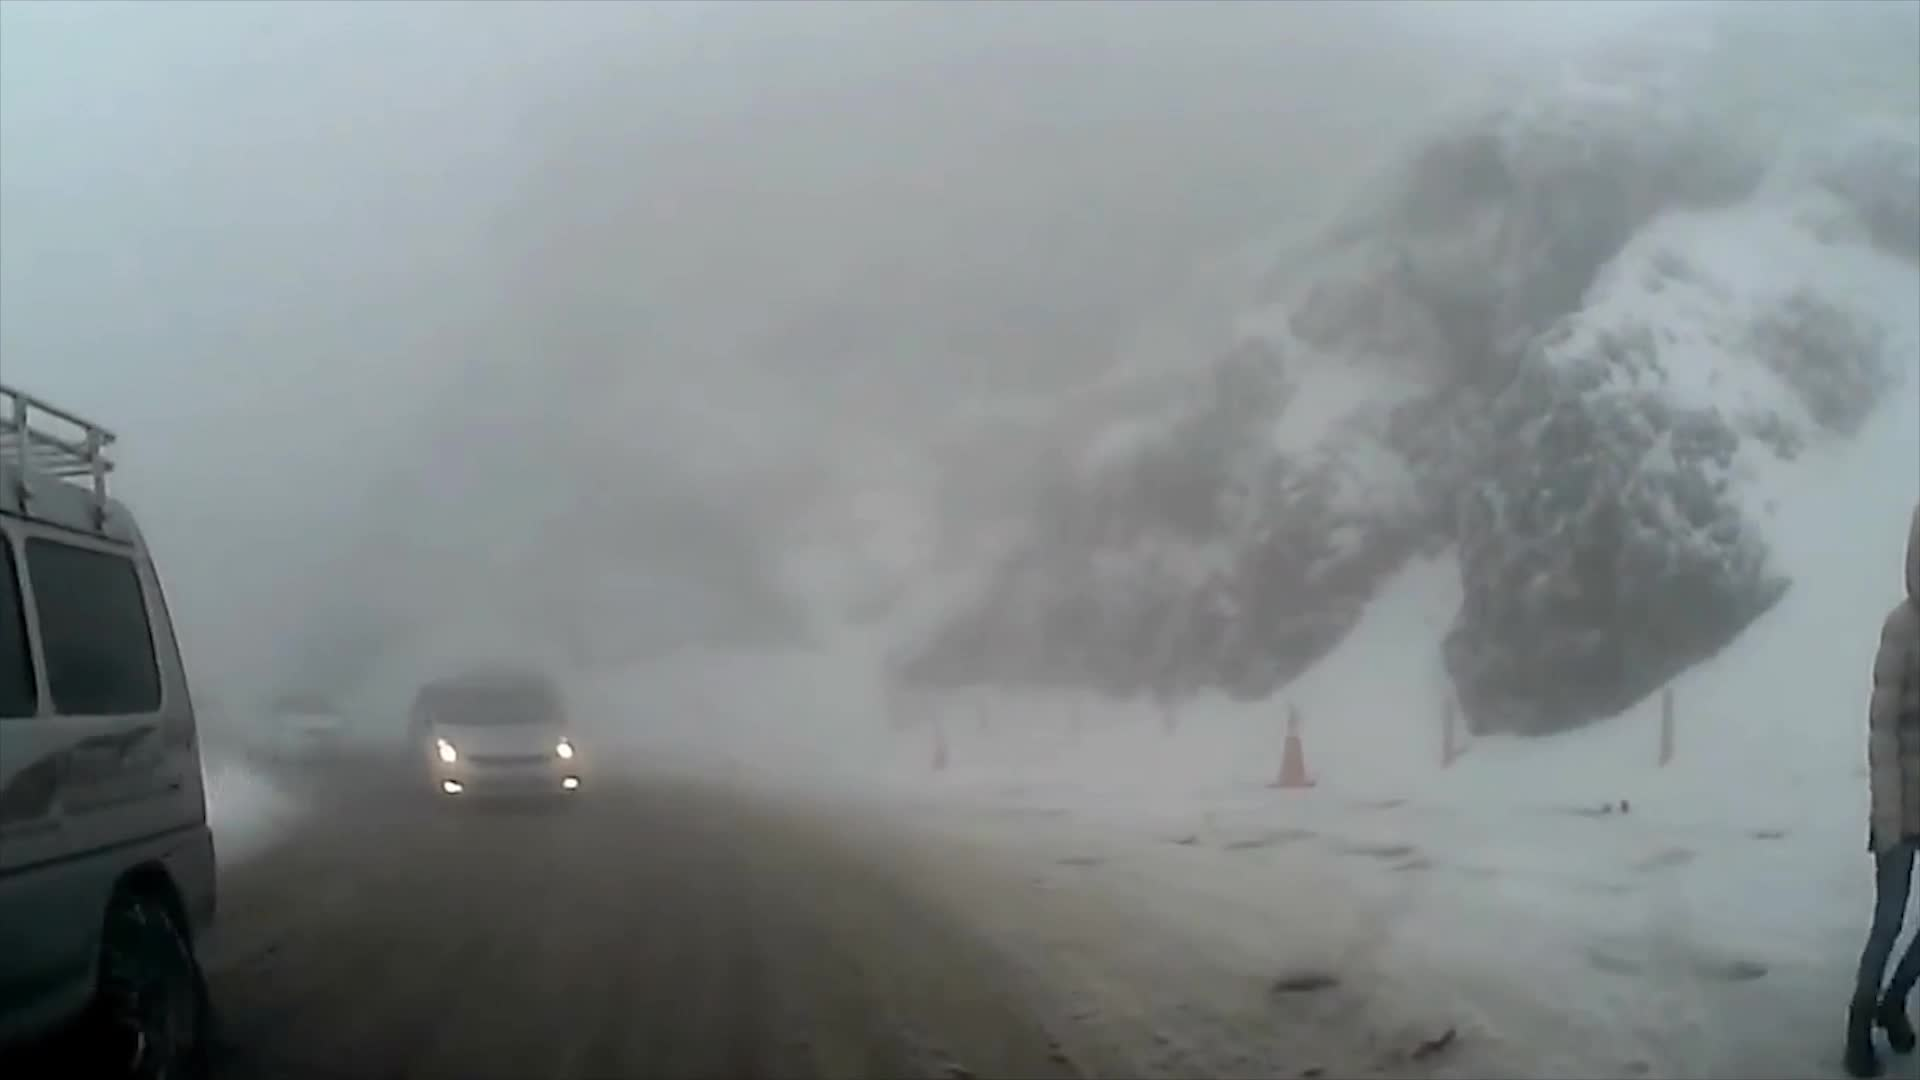pedestrian: (1847, 531, 1920, 1069)
vehicle: (0, 386, 252, 1080), (398, 674, 581, 818)
